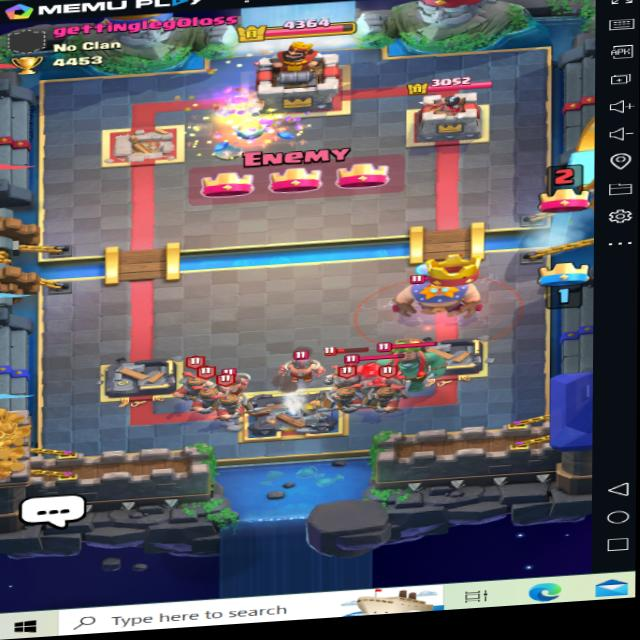electro-barbarians: (270, 344, 329, 383)
electro-giant: (397, 268, 492, 331)
goblin-giant: (374, 335, 445, 390)
golem: (324, 352, 417, 404)
royal-recruits: (363, 367, 414, 418), (331, 370, 381, 413), (169, 361, 217, 404), (179, 377, 225, 415), (211, 384, 254, 423)
